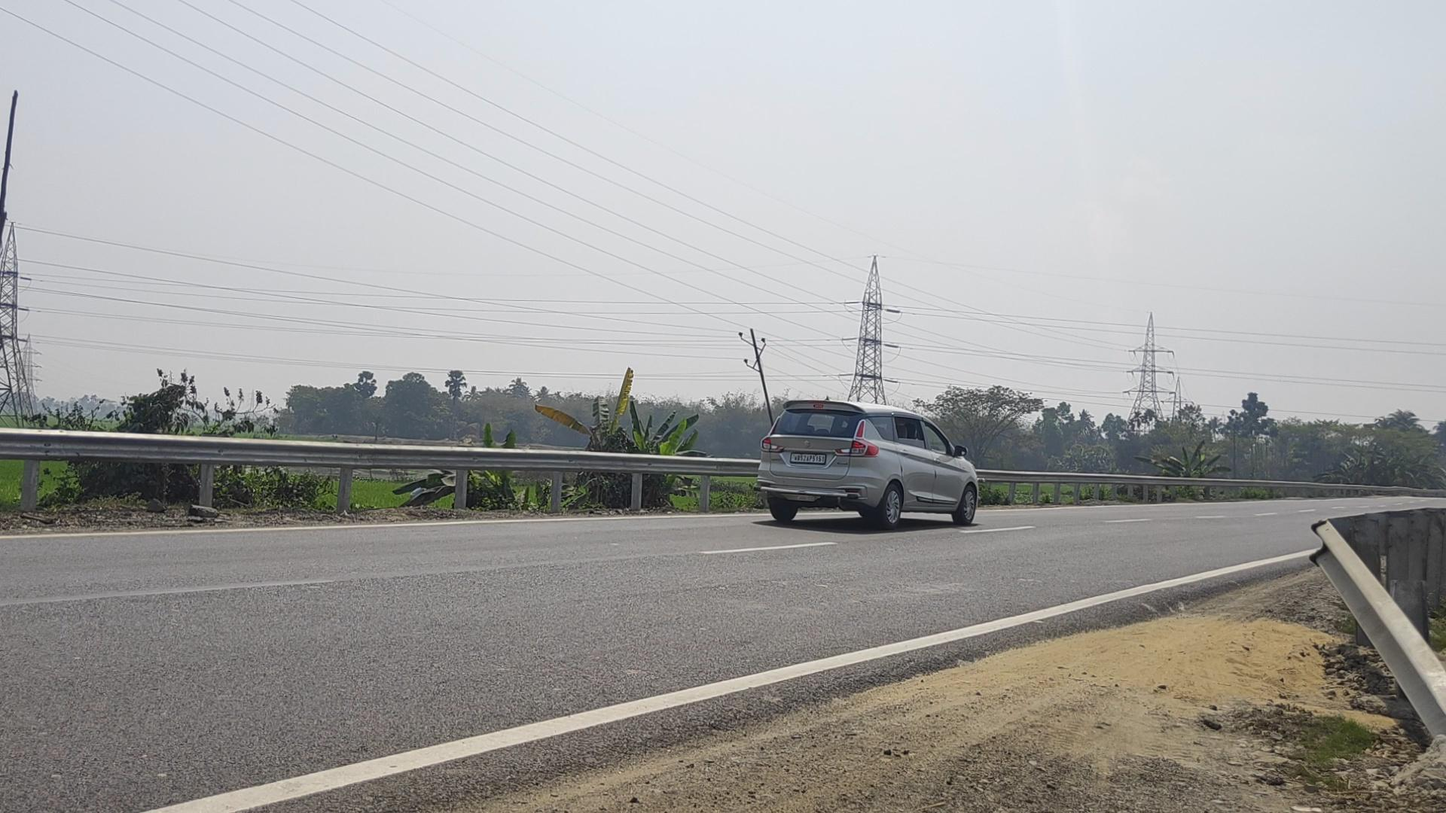car: (752, 395, 985, 531)
